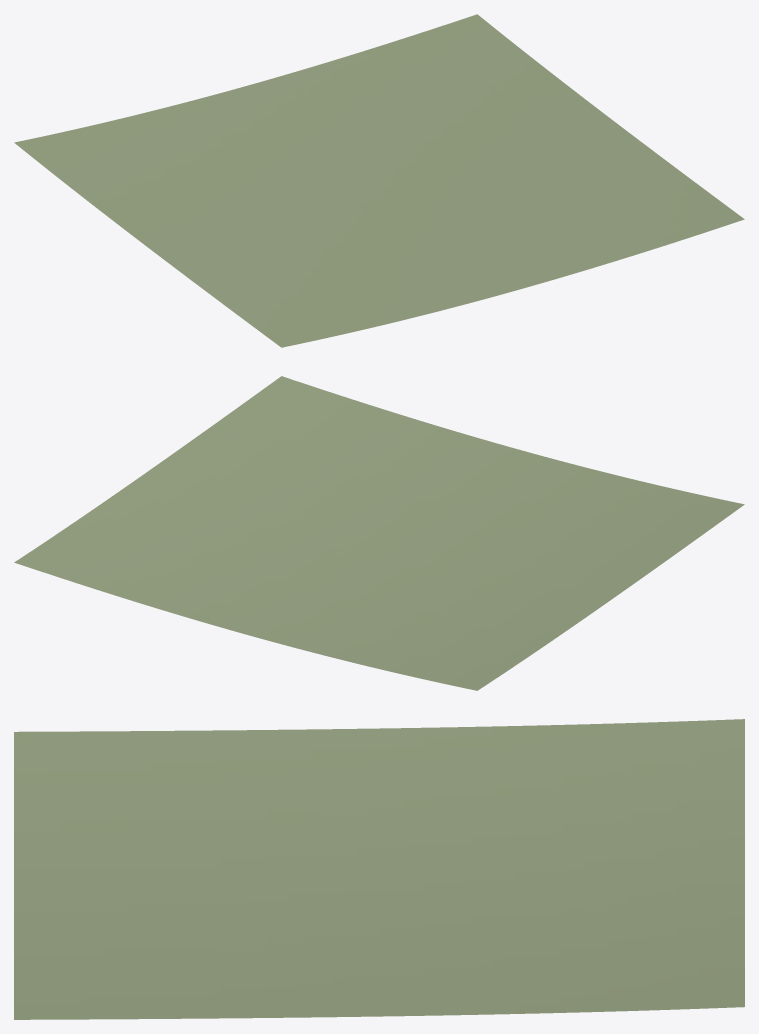
The model's file is valley-13-4.glb.
The picture shows the model from 3 angles, top to bottom: view 1: azimuth 30°, elevation 25°; view 2: azimuth 150°, elevation 25°; view 3: azimuth 270°, elevation 25°; orthographic projection. The views are drawn at different scales.
Parts seen in each view (by area): view 1: valley-13-4; view 2: valley-13-4; view 3: valley-13-4.
Part boxes in pixels (x1,y1,x2,y2): valley-13-4: [14, 14, 744, 347]; valley-13-4: [14, 376, 744, 690]; valley-13-4: [14, 719, 744, 1019].
Size of the model in its own units: 256 by 14.16 by 256.
